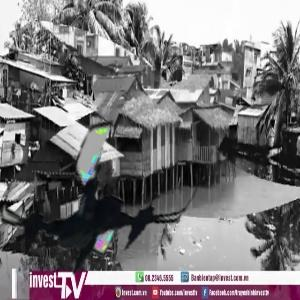drone: (4, 100, 197, 293)
